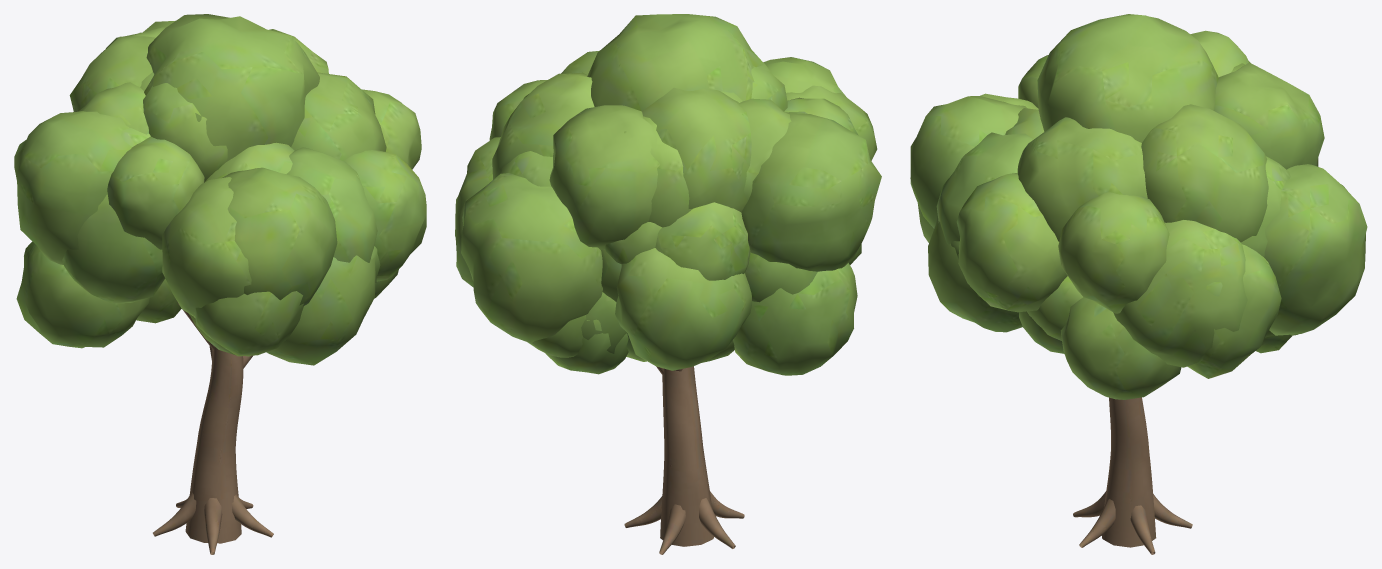
The model's file is tree.glb.
3 views of the same model, side by side, from view 1: azimuth 30°, elevation 25°; view 2: azimuth 150°, elevation 25°; view 3: azimuth 270°, elevation 25° (orthographic).
Parts seen in each view (by area): view 1: canopy, trunk; view 2: canopy, trunk; view 3: canopy, trunk.
Part boxes in pixels (x1,y1,x2,y2): canopy: (14,14,426,365); trunk: (153,301,273,554); canopy: (455,14,881,375); trunk: (624,366,744,554); canopy: (910,14,1367,399); trunk: (1073,397,1192,554).
Size of the model in its own units: 5.59 by 7.22 by 5.78.
Materials: 2 (2 with a texture image).
